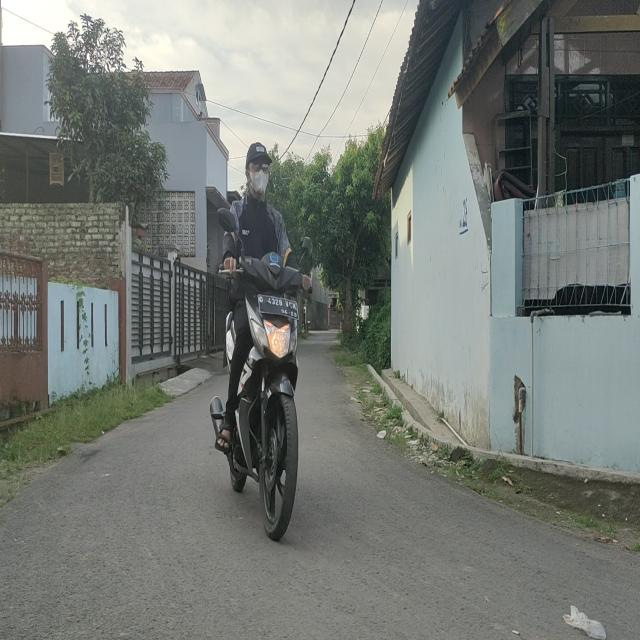no-helmet: (244, 137, 274, 206)
